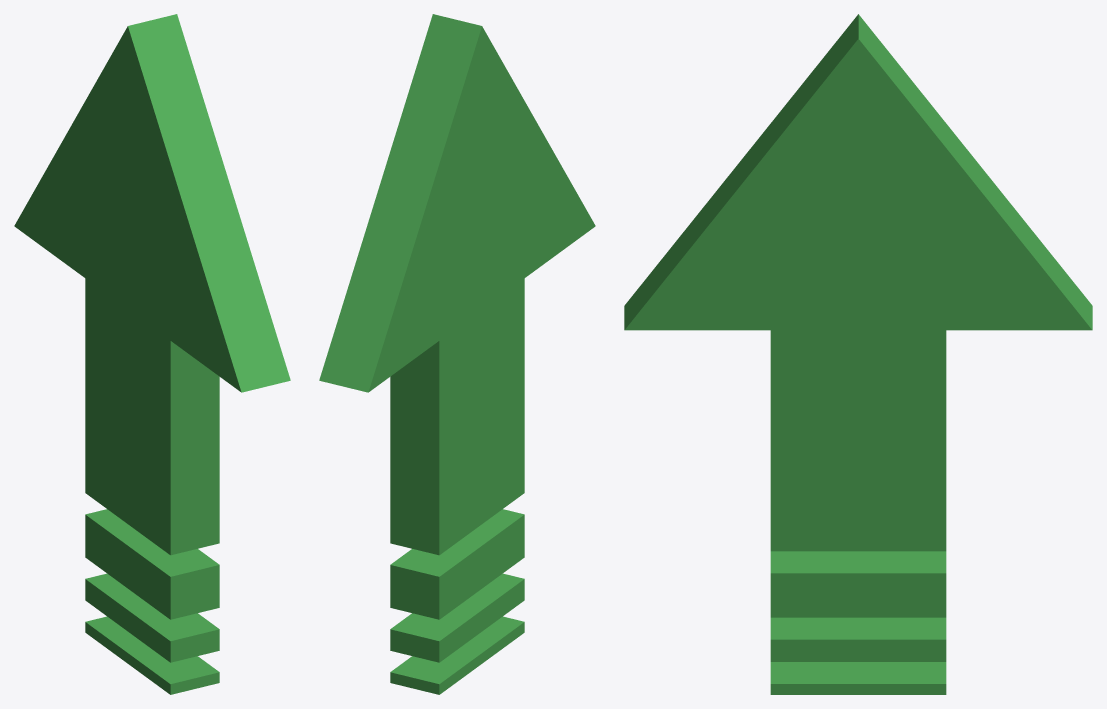
Rendered from Jump.fbx.
3 views of the same model, side by side, from view 1: azimuth 30°, elevation 25°; view 2: azimuth 150°, elevation 25°; view 3: azimuth 270°, elevation 25° (orthographic). The views are drawn at different scales.
Parts seen in each view (by area): view 1: Jump; view 2: Jump; view 3: Jump.
Boxes of the visible parts, x1,y1,x2,y2 form: Jump: (14, 14, 290, 694); Jump: (319, 14, 595, 694); Jump: (624, 14, 1092, 694).
Bounding box in the file's own units: 500 × 6188 × 4000.
